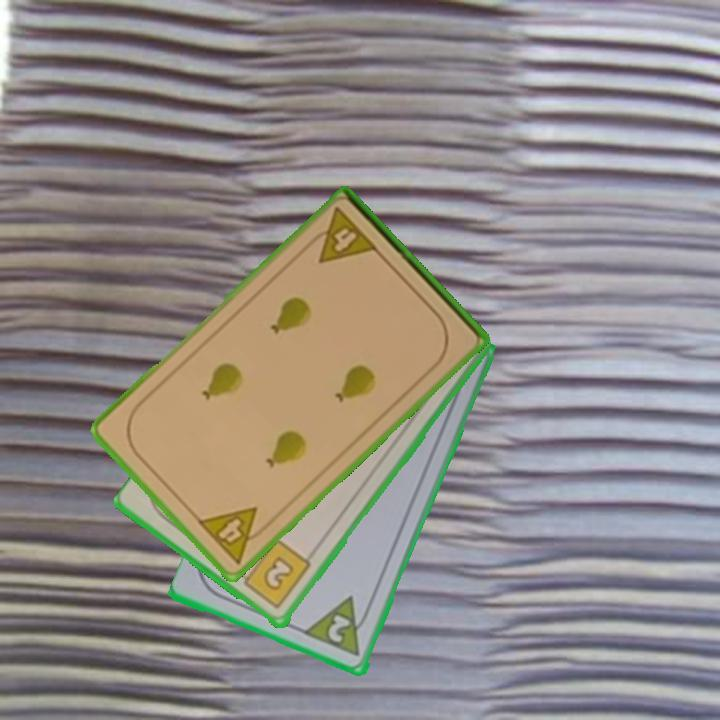2b: (235, 536, 314, 612)
2p: (324, 611, 354, 647)
4p: (193, 503, 274, 567), (302, 203, 381, 267)
